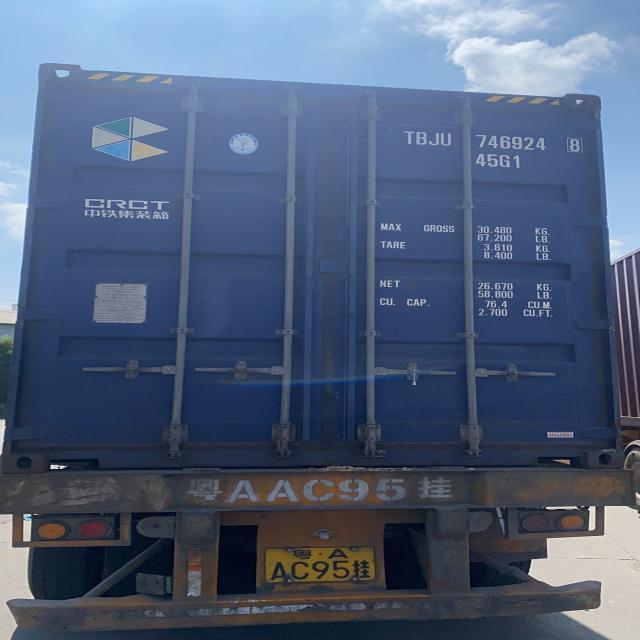ISO: (478, 152, 522, 170)
container_number: (408, 134, 580, 152)
